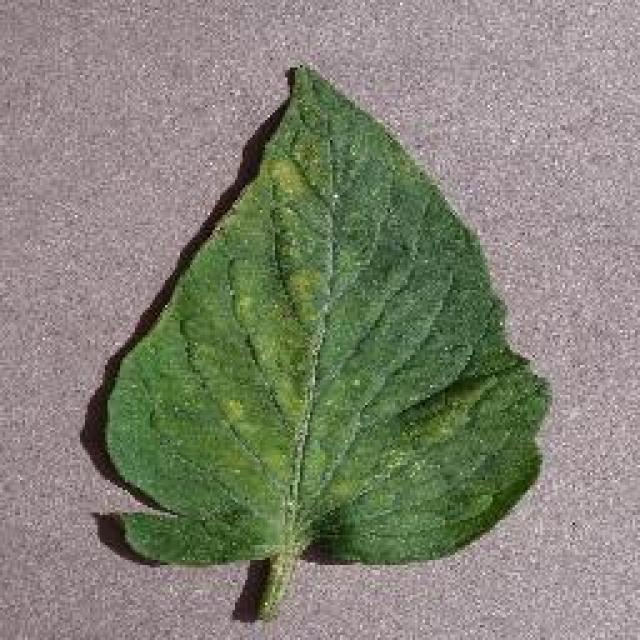Tom_Spider_mites Two-spotted_spider_mite: (214, 162, 440, 498)
